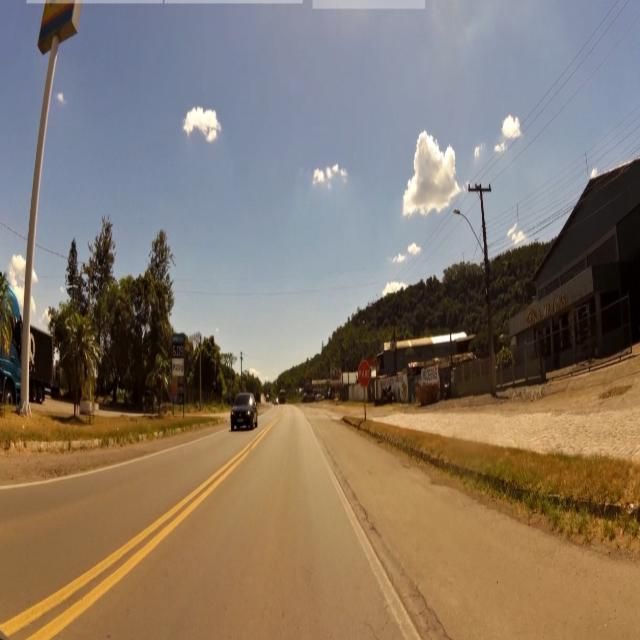R-1: (357, 359, 374, 390)
